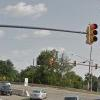traffic lights: (87, 23, 98, 45)
